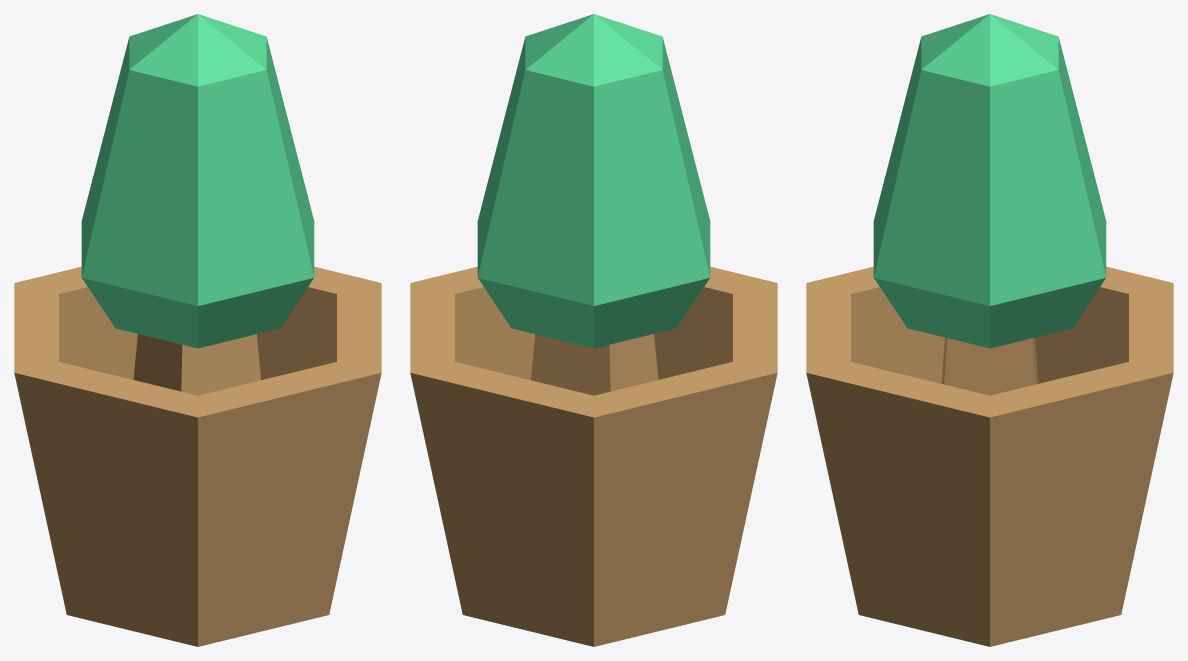
File: plantSmall3.glb
The picture shows the model from 3 angles, left to right: view 1: azimuth 30°, elevation 25°; view 2: azimuth 150°, elevation 25°; view 3: azimuth 270°, elevation 25°; orthographic projection.
Size of the model in its own units: 0.98 by 1.45 by 0.8487.
